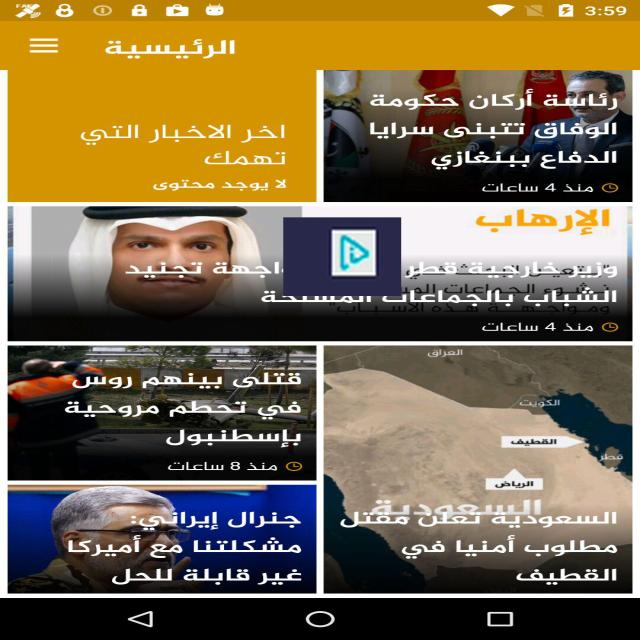sneaking: (283, 217, 401, 296)
